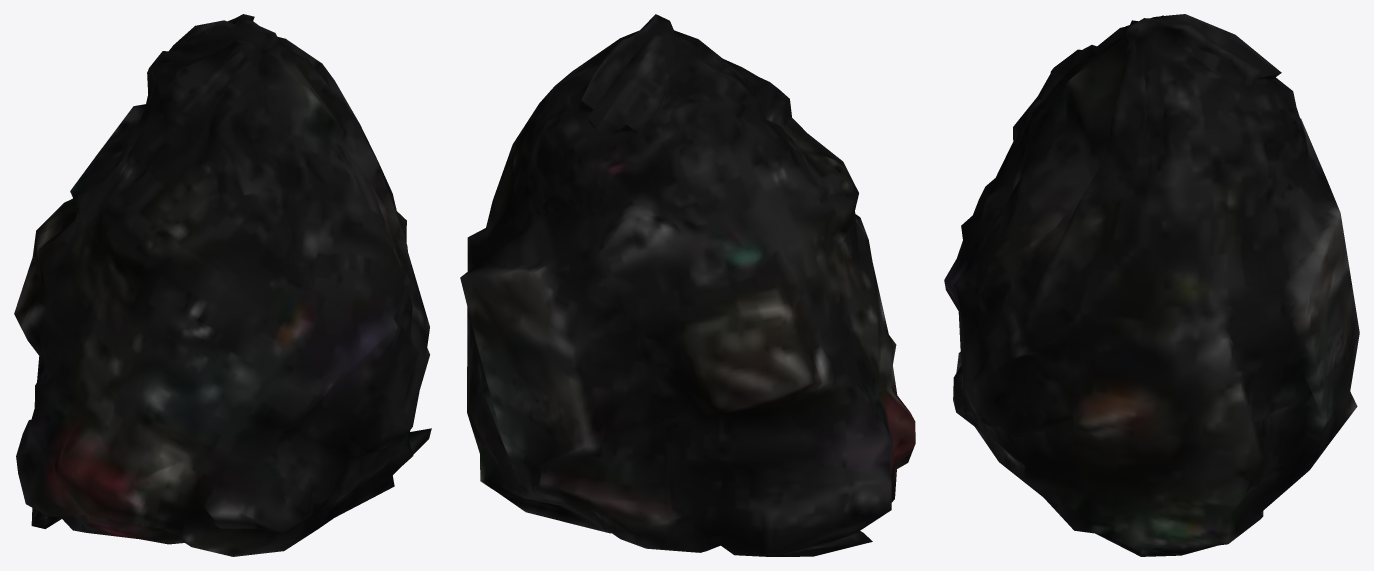
The model's file is trashBag_lo.glb.
3 views of the same model, side by side, from view 1: azimuth 30°, elevation 25°; view 2: azimuth 150°, elevation 25°; view 3: azimuth 270°, elevation 25° (orthographic). The views are drawn at different scales.
Parts seen in each view (by area): view 1: trashbag; view 2: trashbag; view 3: trashbag.
Part boxes in pixels (x1,y1,x2,y2): trashbag: [14, 14, 431, 556]; trashbag: [460, 14, 915, 556]; trashbag: [944, 14, 1359, 556].
Bounding box in the file's own units: 0.5281 × 0.5725 × 0.4629.
1 material, 1 textured.
